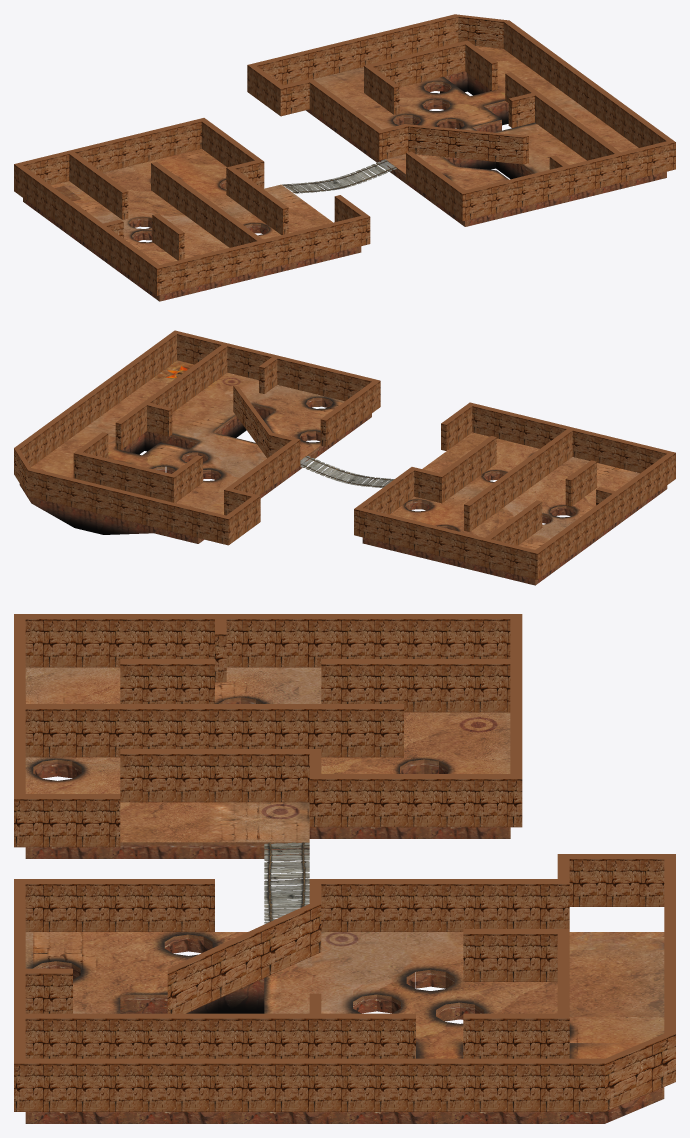
File: maze1.FBX
3 views of the same model, one above another, from view 1: azimuth 30°, elevation 25°; view 2: azimuth 150°, elevation 25°; view 3: azimuth 270°, elevation 25° (orthographic). The views are drawn at different scales.
Parts seen in each view (by area): view 1: walls, Floor, topWall, floorSides; view 2: walls, Floor, topWall, floorSides; view 3: walls, Floor, topWall, floorSides.
Part boxes in pixels (x1,y1,x2,y2): walls: (14,16,675,295); Floor: (51,45,638,264); topWall: (14,14,675,268); floorSides: (23,71,666,301); walls: (14,334,675,579); Floor: (31,360,639,549); topWall: (14,330,675,553); floorSides: (19,397,667,585); walls: (14,619,675,1111); Floor: (25,667,664,1058); topWall: (14,614,675,1063); floorSides: (25,697,664,1123).
Bounding box in the file's own units: 900 × 85.02 × 560.
6 materials, 6 textured.
